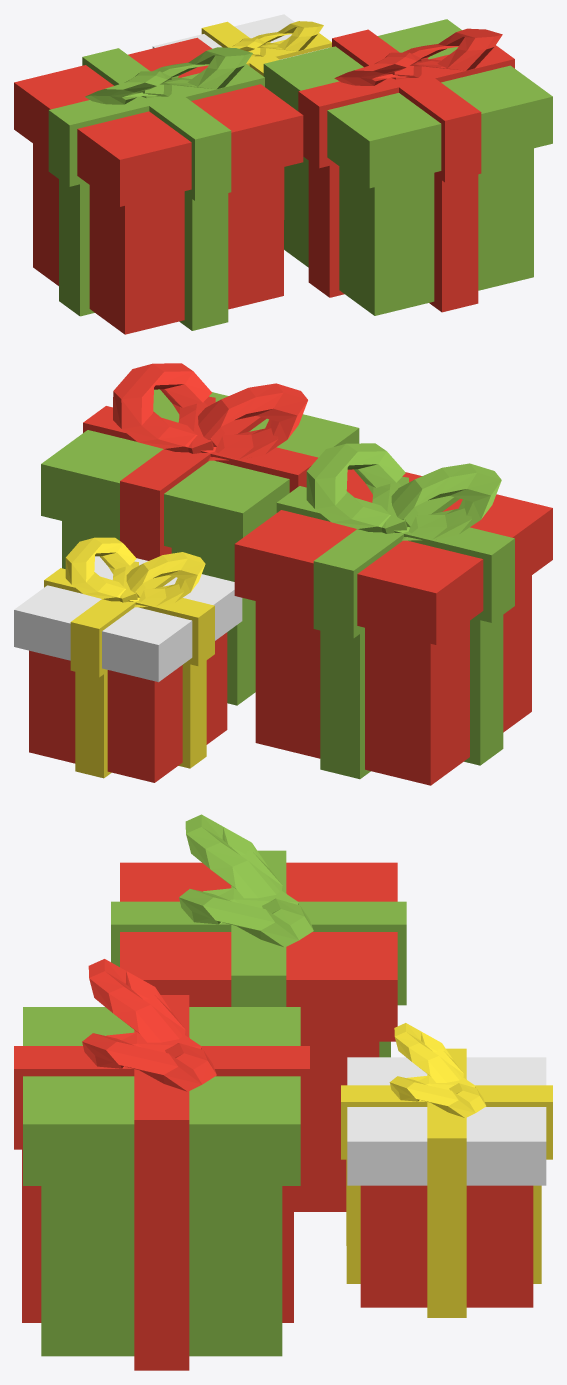
File: Squared Christmas Gifts.glb
3 renders of one model, top to bottom at view 1: azimuth 30°, elevation 25°; view 2: azimuth 150°, elevation 25°; view 3: azimuth 270°, elevation 25°, orthographic. The views are drawn at different scales.
Visible parts, largest first — view 1: Node; view 2: Node; view 3: Node.
Boxes of the visible parts, box(x1,y1,x2,y2) form: Node: box(14, 14, 552, 334); Node: box(14, 363, 552, 785); Node: box(14, 814, 552, 1370).
Bounding box in the file's own units: 2.36 × 1.33 × 2.06.
